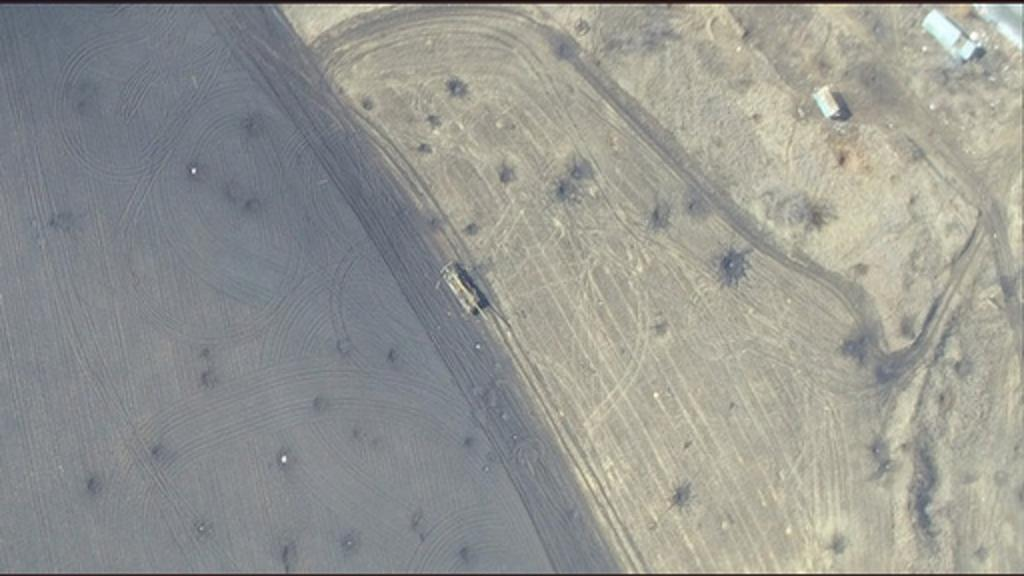ART: (428, 254, 488, 316)
TRUCK: (916, 6, 978, 62)
